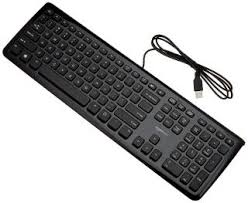keyboard: (5, 3, 245, 196)
